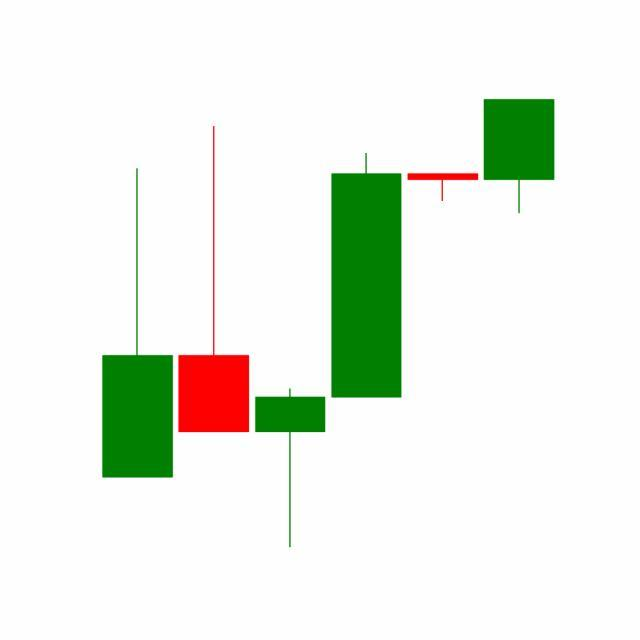Hanging Man: (404, 174, 482, 203)
